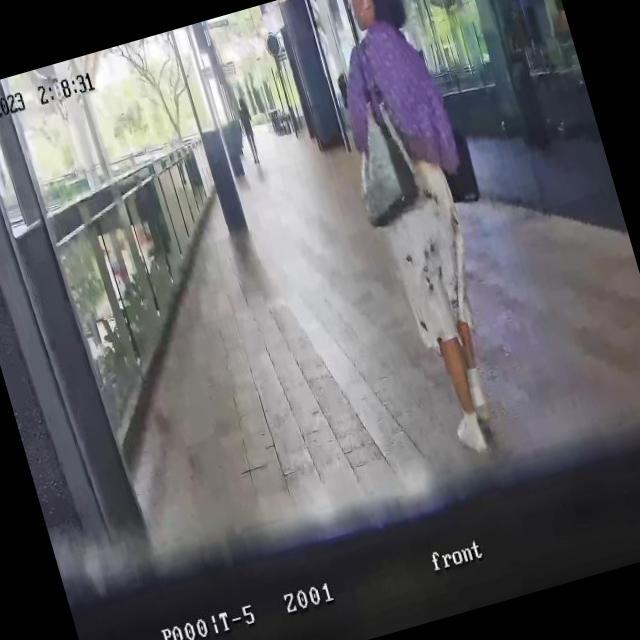person: (304, 0, 541, 467), (235, 97, 264, 163), (334, 71, 354, 108)
